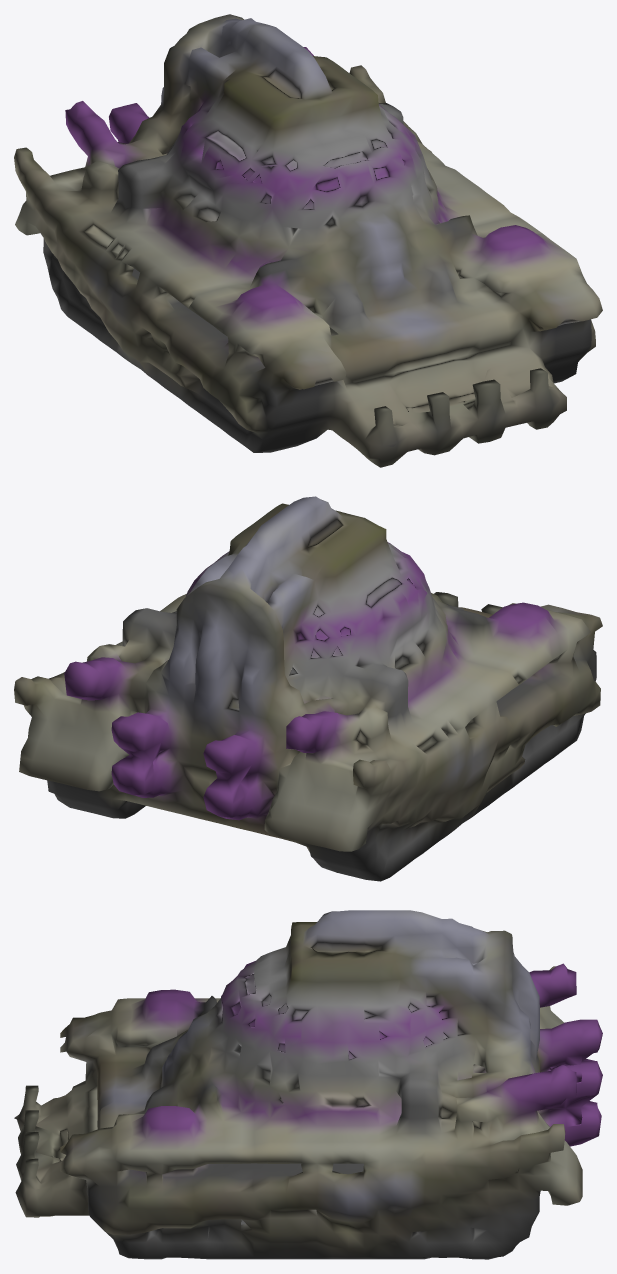
Rendered from mastermind.glb.
3 renders of one model, top to bottom at view 1: azimuth 30°, elevation 25°; view 2: azimuth 150°, elevation 25°; view 3: azimuth 270°, elevation 25°, orthographic. The views are drawn at different scales.
Visible parts, largest first — view 1: mastermind; view 2: mastermind; view 3: mastermind.
Part boxes in pixels (x1,y1,x2,y2): mastermind: (14,14,602,467); mastermind: (14,496,602,881); mastermind: (14,910,602,1259).
Size of the model in its own units: 3.61 by 2.73 by 5.28.
